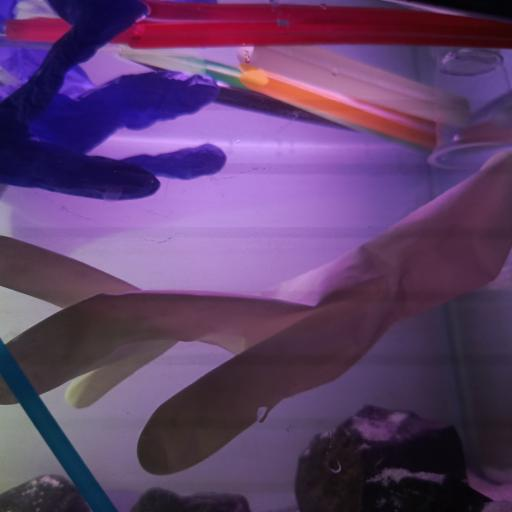glove: (0, 150, 512, 477), (2, 0, 228, 200)
plastic_cup: (428, 50, 512, 172)
plastic_straw: (0, 339, 116, 512), (243, 44, 469, 131), (238, 68, 436, 150), (128, 22, 512, 49), (146, 2, 492, 22), (215, 85, 347, 130), (116, 48, 242, 90), (5, 16, 130, 44)
